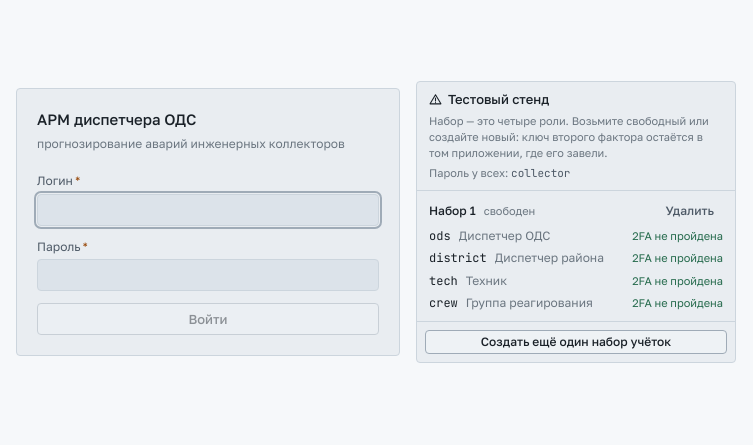
Test: панель тестового стенда › создаёт ещё один набор
This screenshot has width=753, height=445.
Click the button "Создать ещё один набор учёток". click: (576, 342)
box: [425,330,727,354]
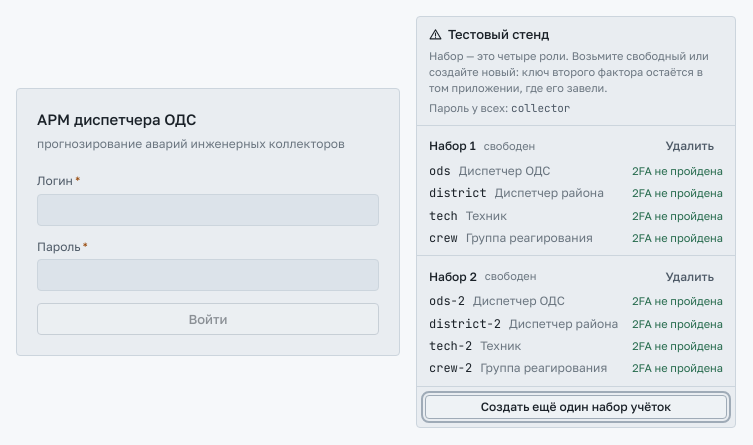
Check: the text "ods-2" is shown, box [429,293,465,311]
